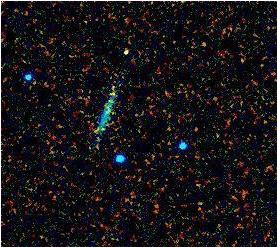star: (110, 36, 140, 66)
